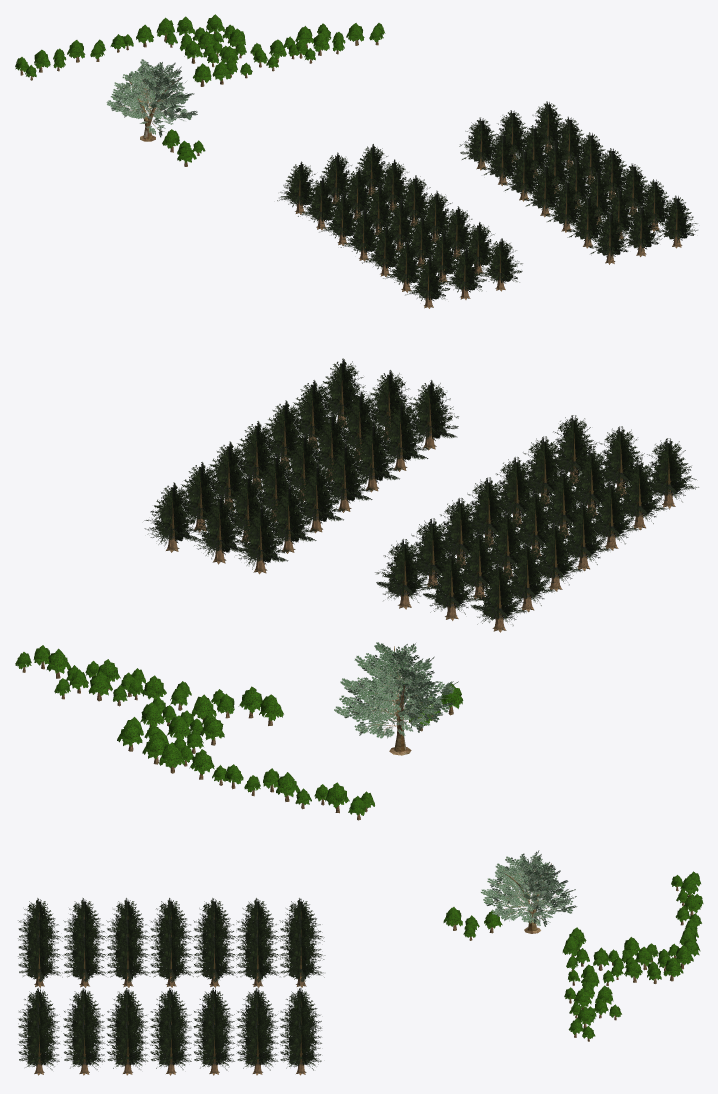
The model's file is trees.obj.
3 renders of one model, top to bottom at view 1: azimuth 30°, elevation 25°; view 2: azimuth 150°, elevation 25°; view 3: azimuth 270°, elevation 25°, orthographic. The views are drawn at different scales.
Visible parts, largest first — view 1: _mesh_Untitled; view 2: _mesh_Untitled; view 3: _mesh_Untitled.
Part boxes in pixels (x1,y1,x2,y2): _mesh_Untitled: (15,14,697,308); _mesh_Untitled: (15,358,698,820); _mesh_Untitled: (18,850,703,1075).
Size of the model in its own units: 107 by 22.06 by 174.
